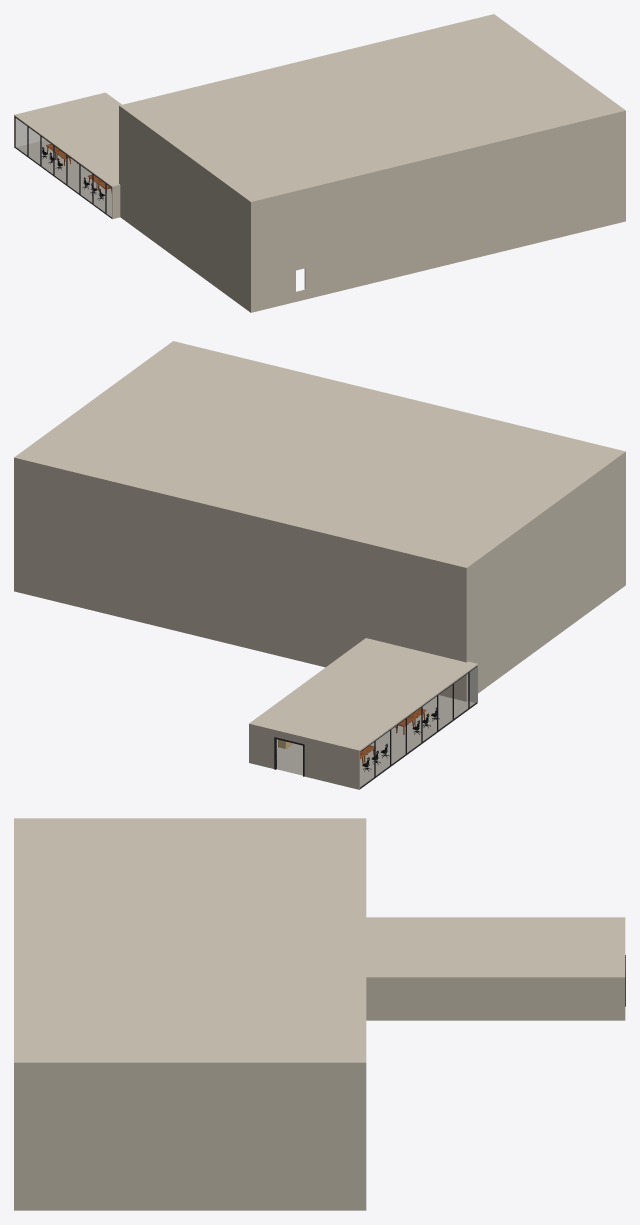
File: set10.glb
3 renders of one model, top to bottom at view 1: azimuth 30°, elevation 25°; view 2: azimuth 150°, elevation 25°; view 3: azimuth 270°, elevation 25°, orthographic. The views are drawn at different scales.
Visible parts, largest first — view 1: Static; view 2: Static; view 3: Static.
Part boxes in pixels (x1,y1,x2,y2): Static: [14, 14, 625, 312]; Static: [14, 341, 625, 789]; Static: [14, 818, 625, 1210].
Bounding box in the file's own units: 40.87 × 11.3 × 42.32.
Materials: 19 (7 with a texture image).
